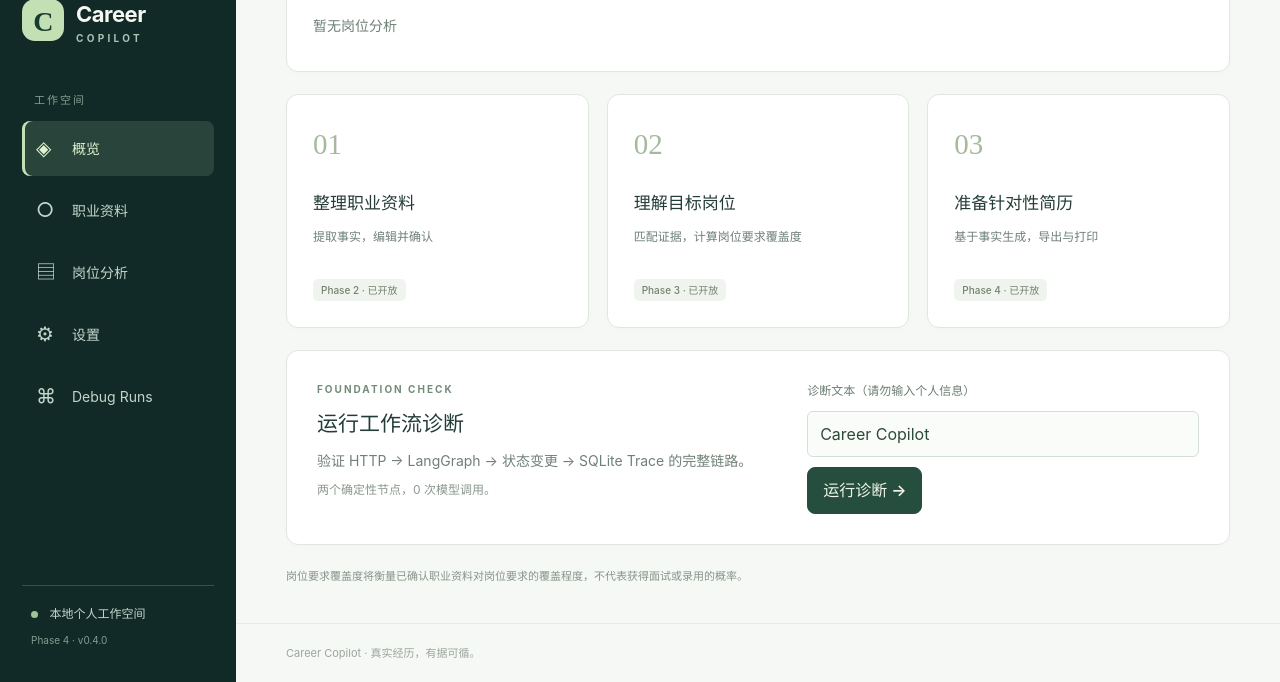
Scenario: Phase 1 shell › runs a diagnostic explicitly and opens its real node timeline
(page scrolled)
Click the button "运行诊断 →" at point(865, 491), box [807, 468, 922, 514]
(page scrolled)
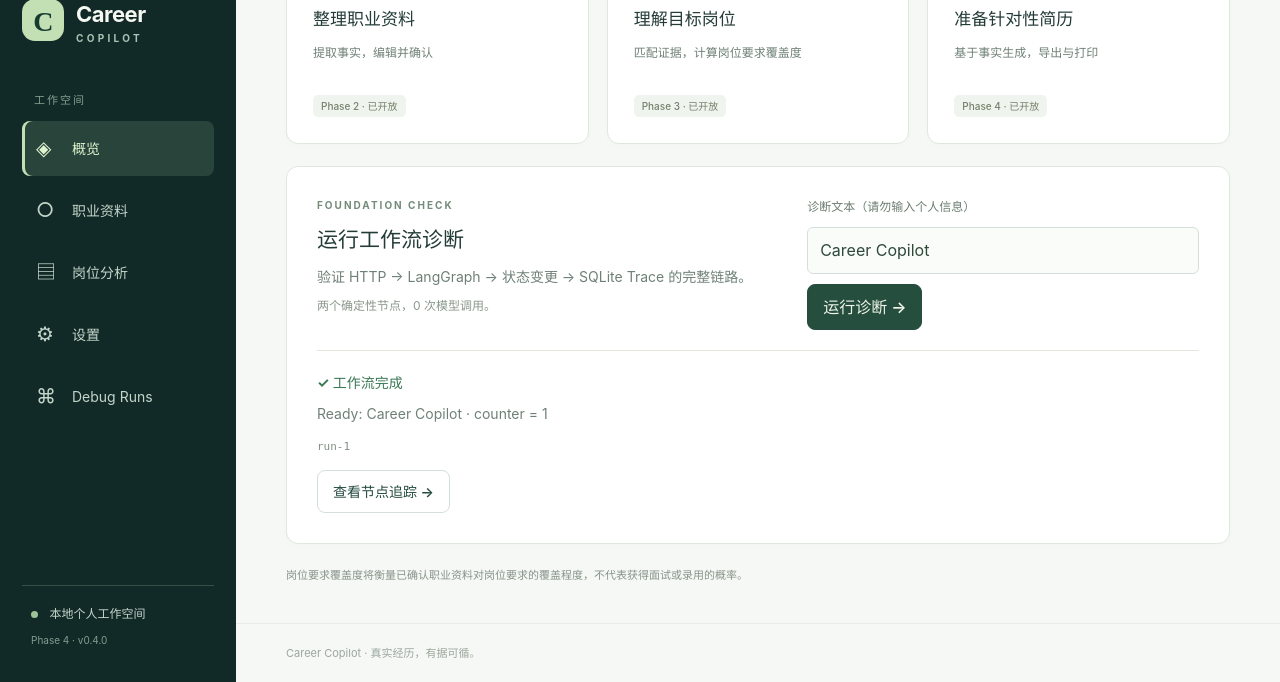
Expected: the text "✓ 工作流完成" is shown, [317, 374, 403, 391]
Click the button "查看节点追踪 →" at point(383, 492), box [317, 470, 450, 513]
(page scrolled)
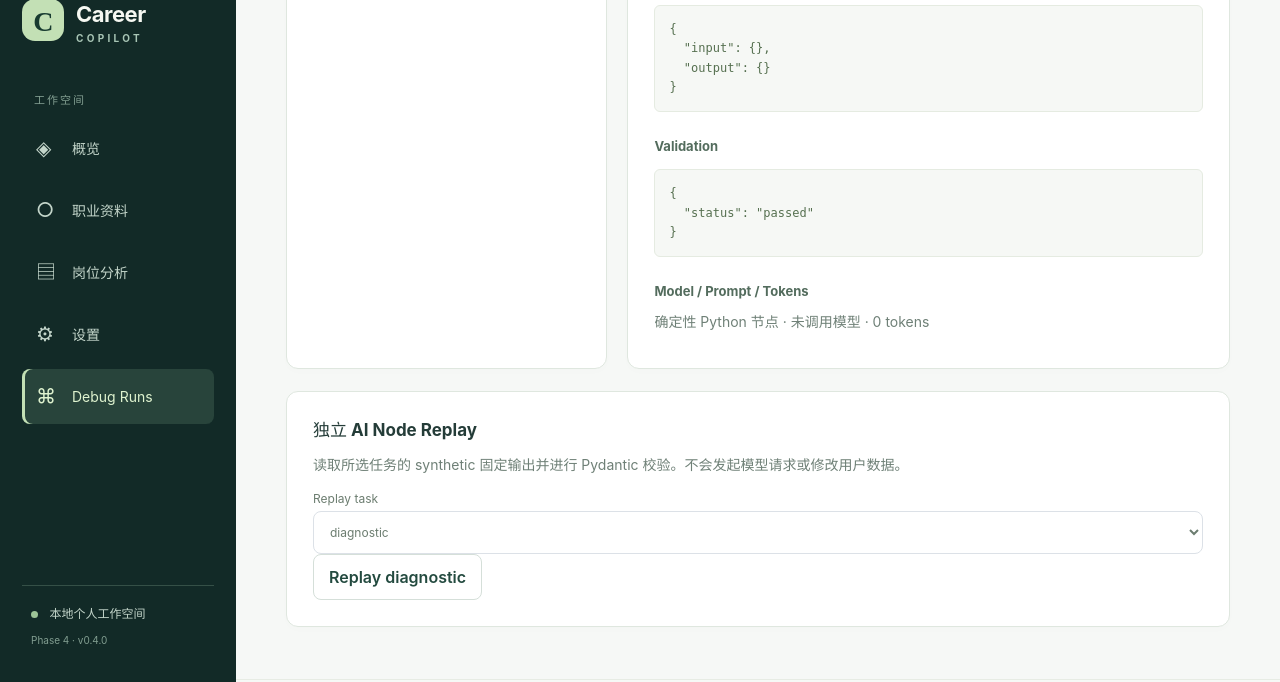
Expected: the text "确定性 Python 节点 · 未调用模型 · 0 tokens" is shown, [654, 314, 929, 330]
